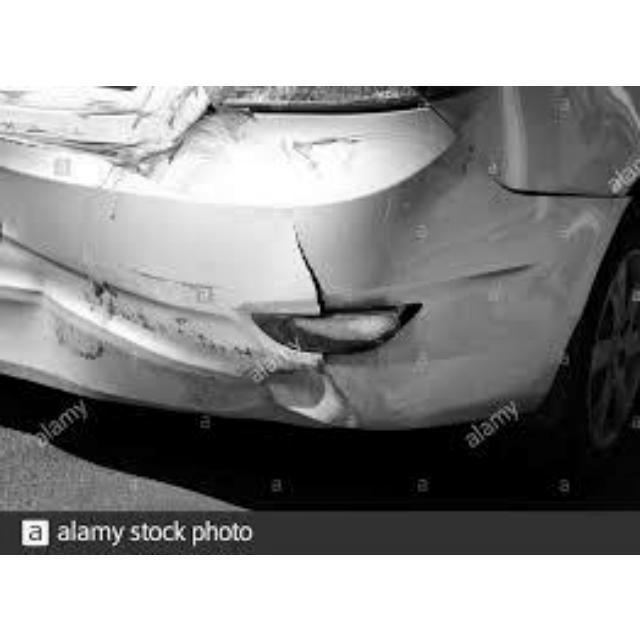rear-bumper-dent: (0, 110, 618, 439)
